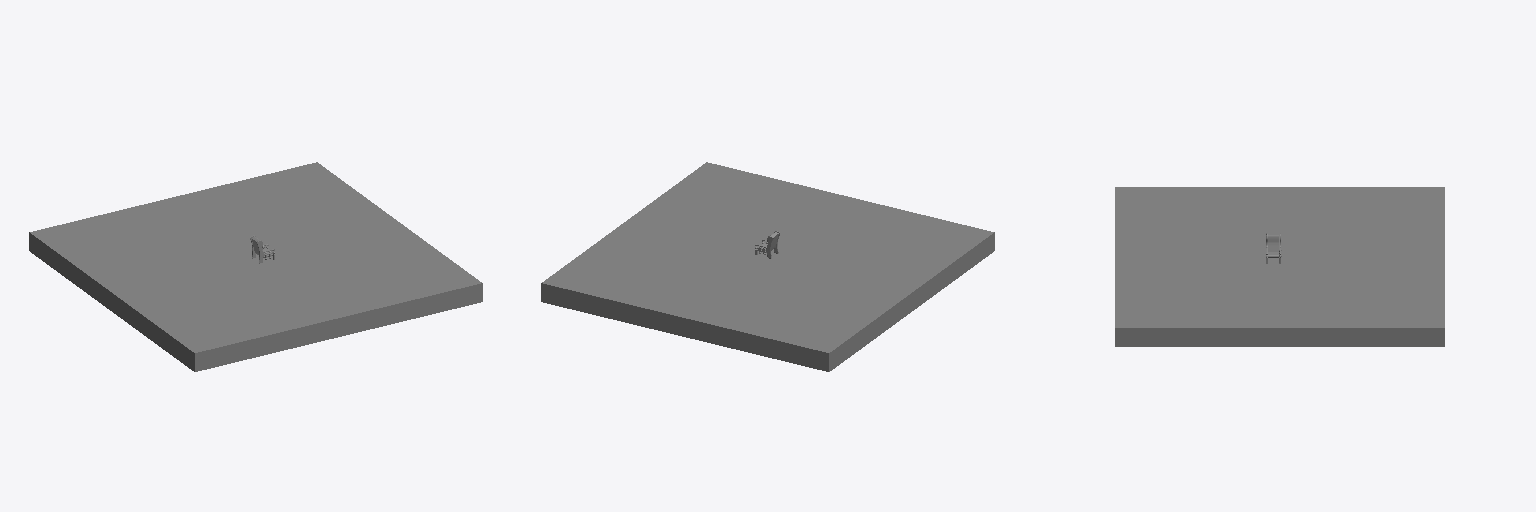
Rendered from Stokvel_Wooden_Armchair.obj.
The picture shows the model from 3 angles: view 1: azimuth 30°, elevation 25°; view 2: azimuth 150°, elevation 25°; view 3: azimuth 270°, elevation 25°; orthographic projection.
Parts seen in each view (by area): view 1: Box001; view 2: Box001; view 3: Box001.
Boxes of the visible parts, box(x1,y1,x2,y2) form: Box001: box(29, 162, 482, 371); Box001: box(541, 162, 994, 371); Box001: box(1115, 187, 1444, 346).
Size of the model in its own units: 51.89 by 7.15 by 51.61.